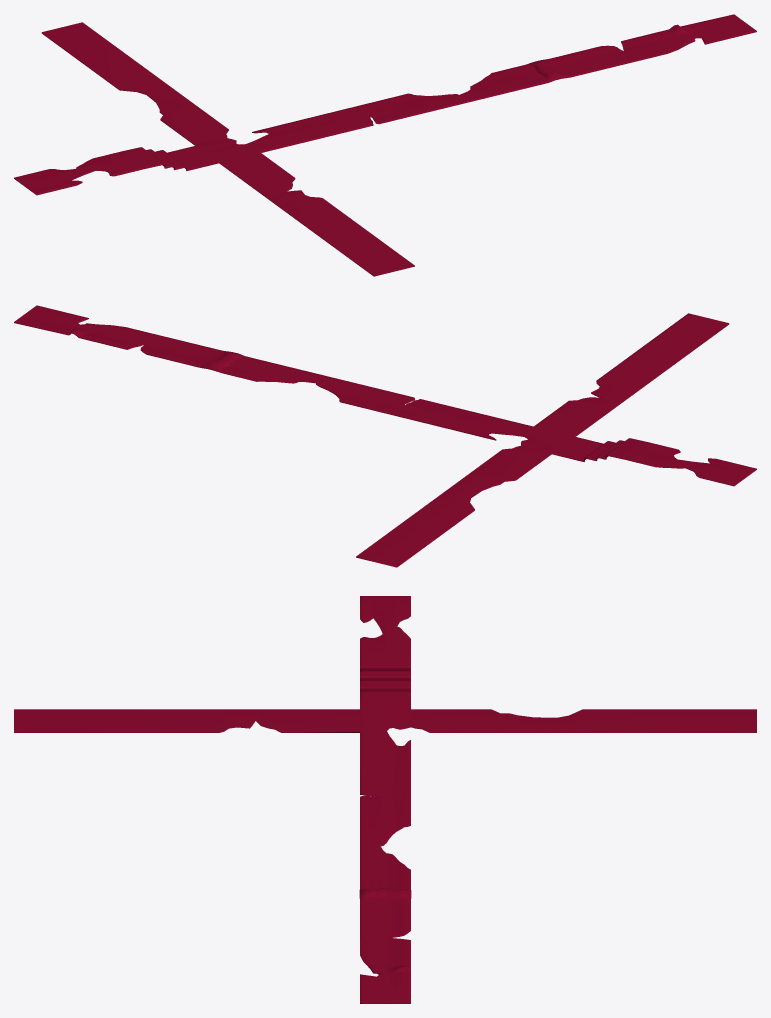
File: Cathedral_Carpet_a01.fbx
3 renders of one model, top to bottom at view 1: azimuth 30°, elevation 25°; view 2: azimuth 150°, elevation 25°; view 3: azimuth 270°, elevation 25°, orthographic. The views are drawn at different scales.
Visible parts, largest first — view 1: Carpet_a01; view 2: Carpet_a01; view 3: Carpet_a01.
Boxes of the visible parts, bbox=[...] form: Carpet_a01: bbox=[14, 14, 756, 276]; Carpet_a01: bbox=[14, 305, 756, 567]; Carpet_a01: bbox=[14, 596, 756, 1003].
Size of the model in its own units: 8887 by 159 by 7103.
